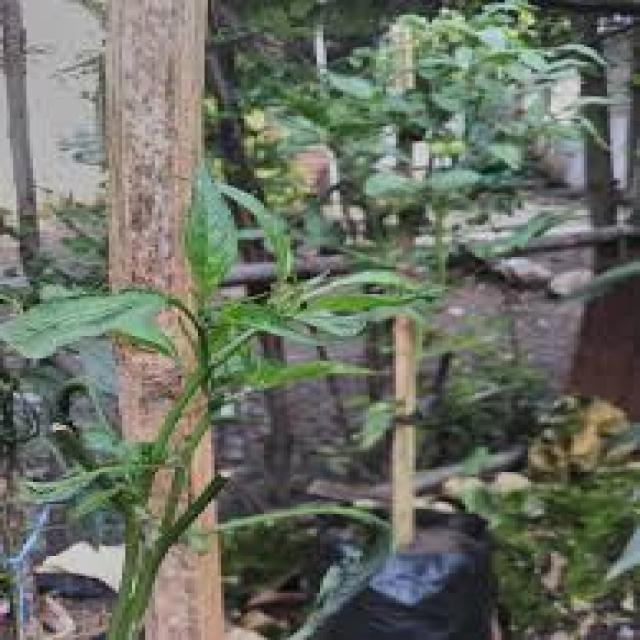Nutirtion_deficie: (425, 462, 640, 625), (139, 229, 357, 373), (320, 0, 593, 93)
